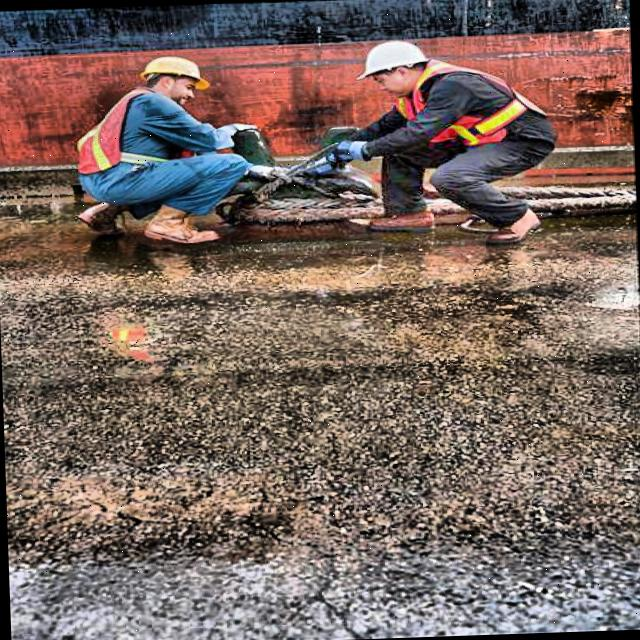helmet: (350, 30, 440, 106), (134, 46, 222, 102)
